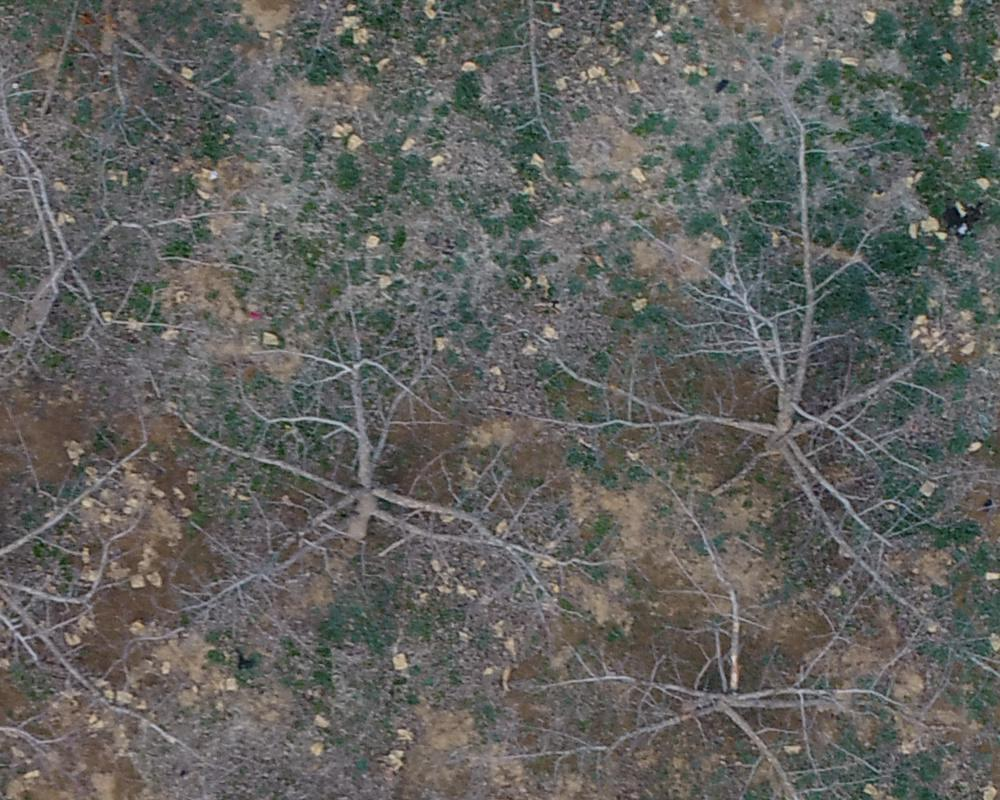apple: (610, 124, 954, 623), (192, 310, 592, 628), (537, 502, 932, 790), (10, 69, 212, 440)
